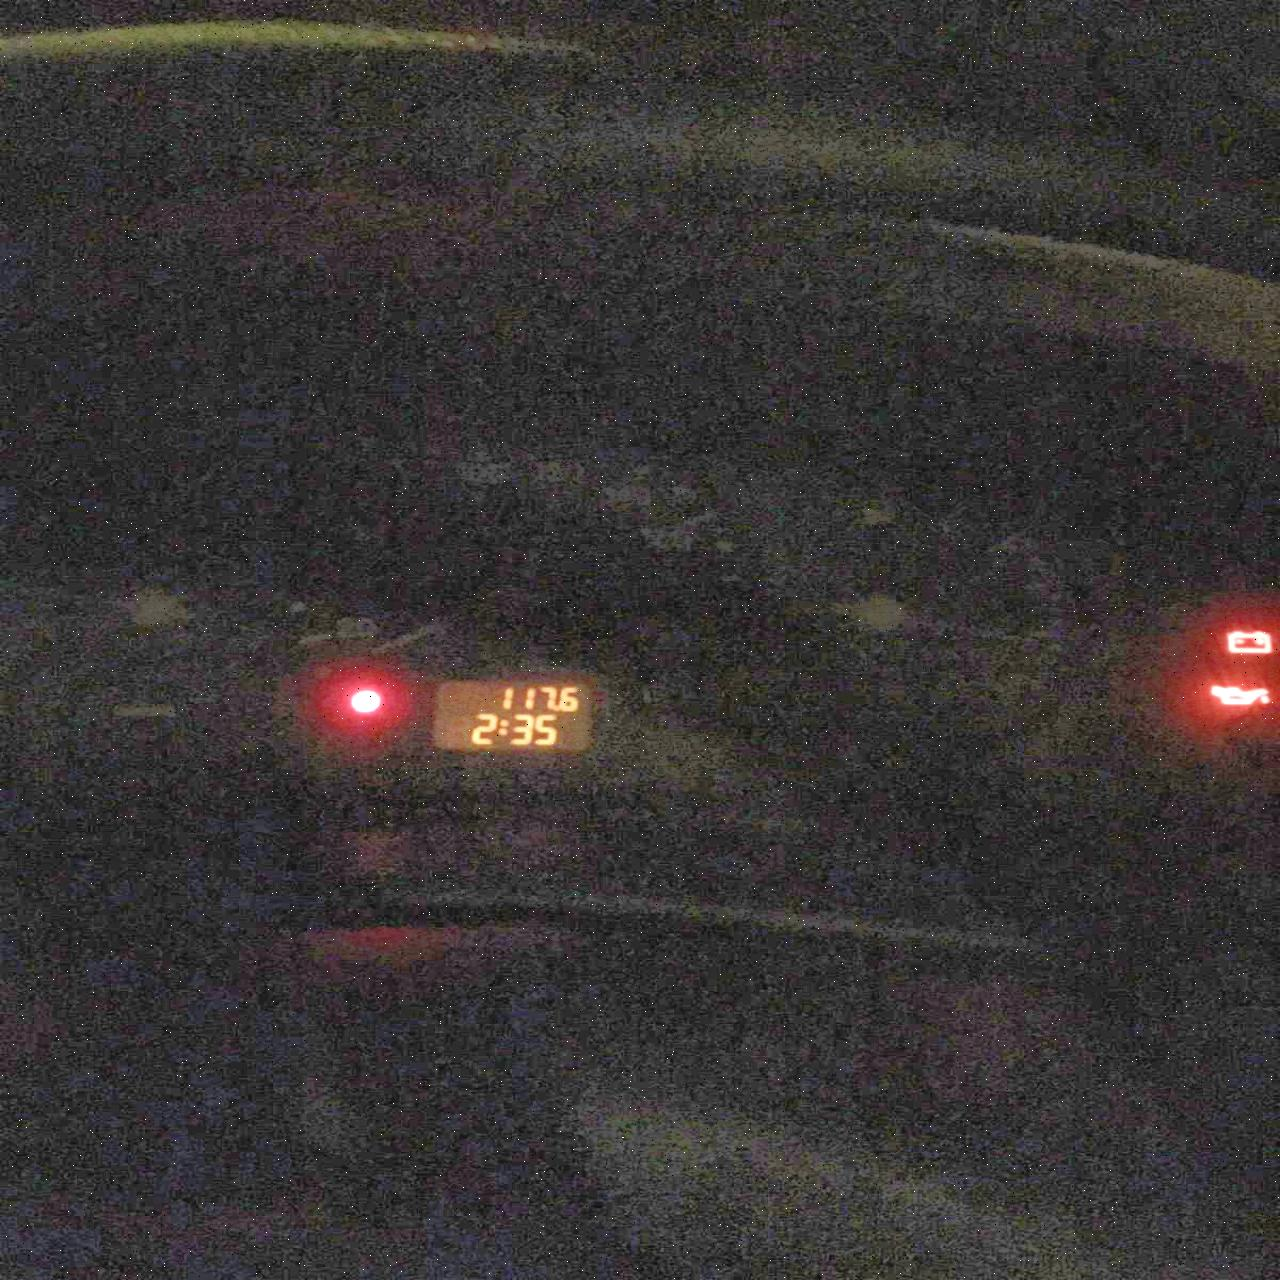-: (550, 704, 560, 712)
1: (501, 687, 515, 709), (524, 686, 536, 709)
2: (469, 712, 497, 745)
3: (509, 713, 533, 745)
5: (533, 714, 557, 745)
6: (558, 685, 579, 712)
7: (538, 685, 557, 709)
X: (497, 719, 509, 736)
odometer: (428, 678, 595, 757)
